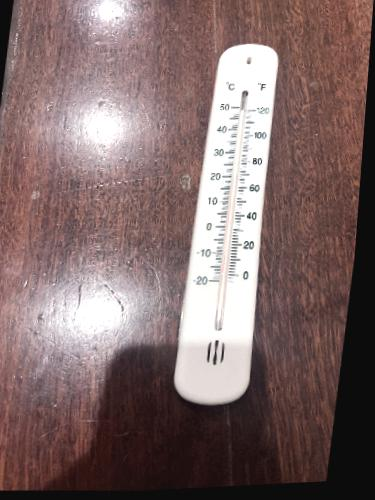thermo: (169, 37, 296, 414)
